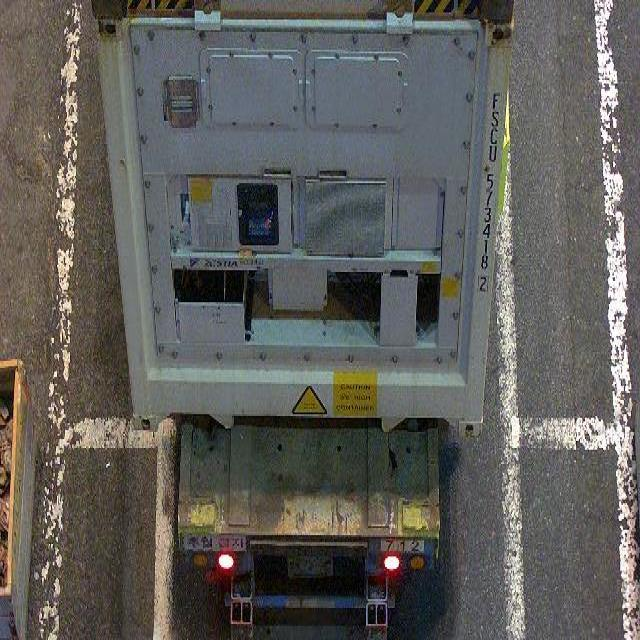container_number: (477, 66, 501, 303)
